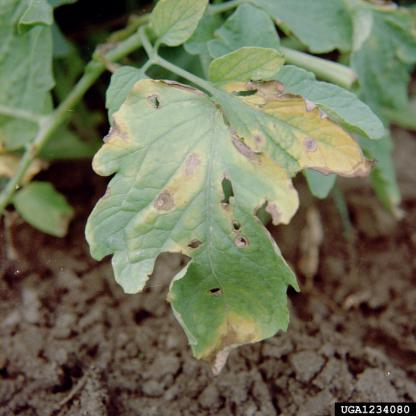tomato early blight leaf: (98, 47, 374, 358)
